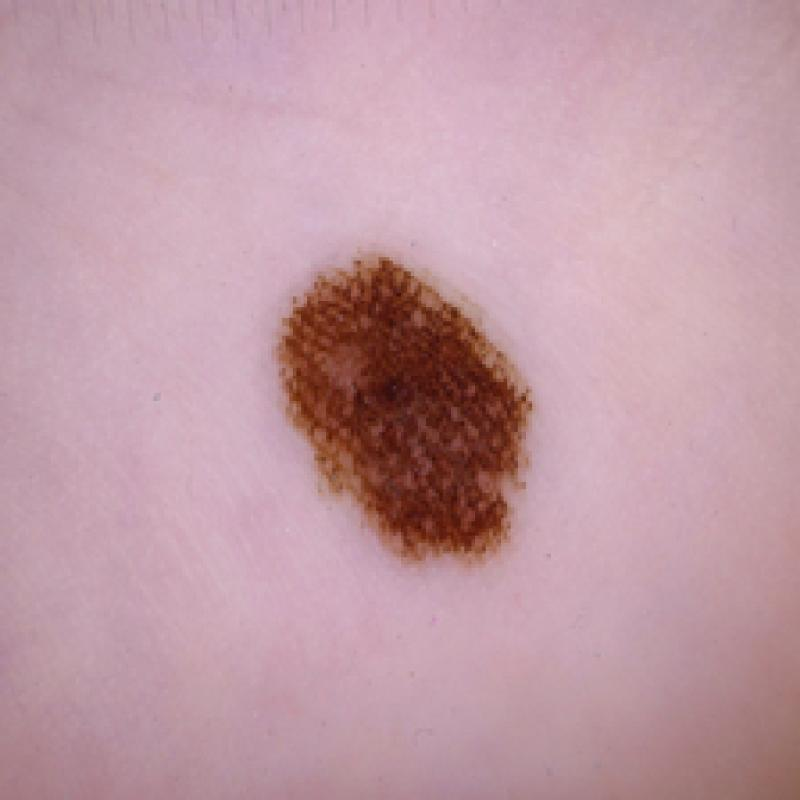benign: (255, 232, 584, 600)
